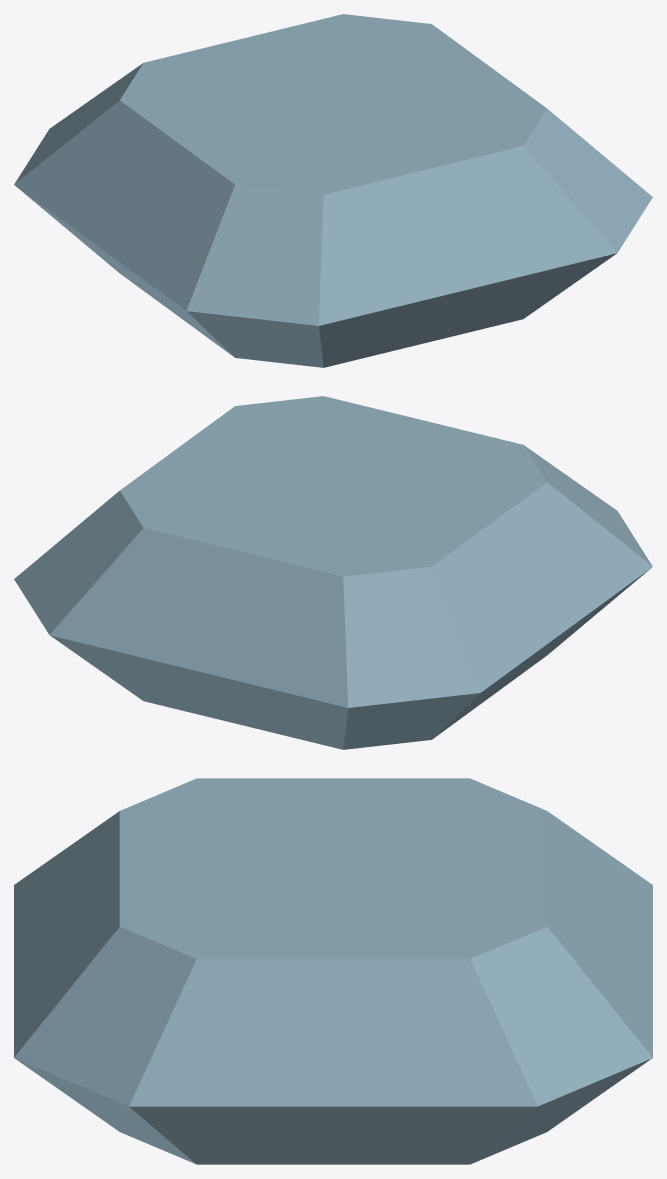
Rendered from GemDefence.fbx.
The picture shows the model from 3 angles, top to bottom: view 1: azimuth 30°, elevation 25°; view 2: azimuth 150°, elevation 25°; view 3: azimuth 270°, elevation 25°; orthographic projection. The views are drawn at different scales.
Parts seen in each view (by area): view 1: GemDefence.001; view 2: GemDefence.001; view 3: GemDefence.001.
Boxes of the visible parts, x1=… form: GemDefence.001: x1=14, y1=14, x2=652, y2=367; GemDefence.001: x1=14, y1=396, x2=652, y2=749; GemDefence.001: x1=14, y1=778, x2=652, y2=1164.
Size of the model in its own units: 30.69 by 10.89 by 30.69.
